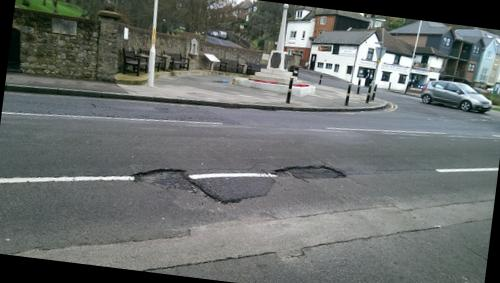pothole: (106, 151, 217, 209), (262, 154, 356, 190)
